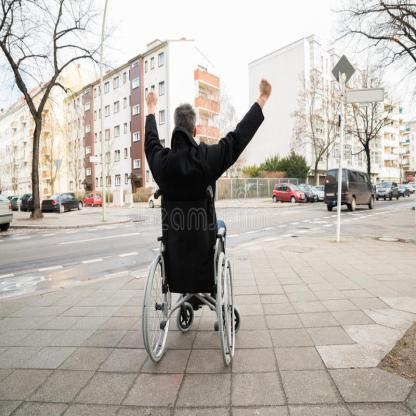wheelchair: (137, 76, 271, 366)
